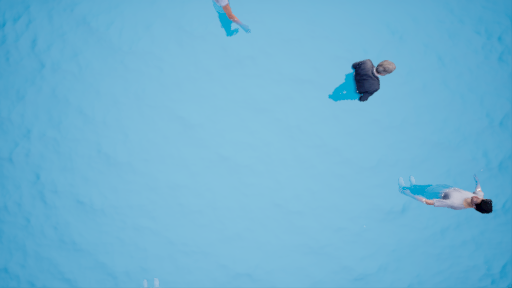person: (388, 165, 500, 221), (320, 41, 392, 109), (200, 1, 253, 44)
